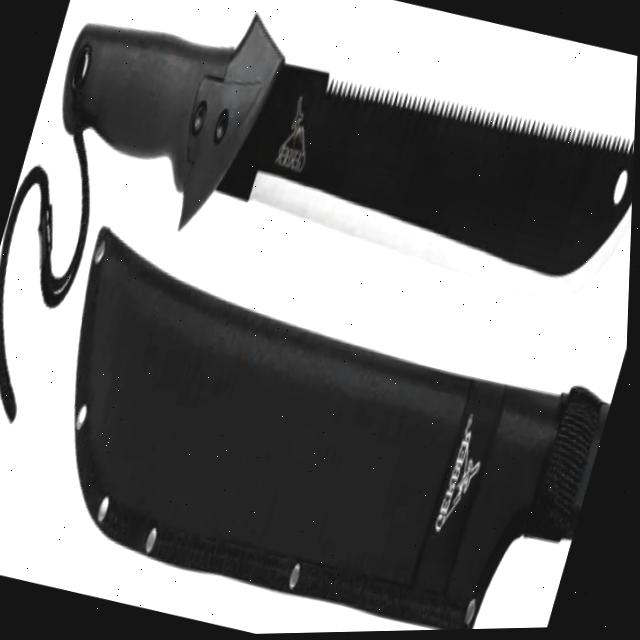long knife: (11, 0, 640, 349)
